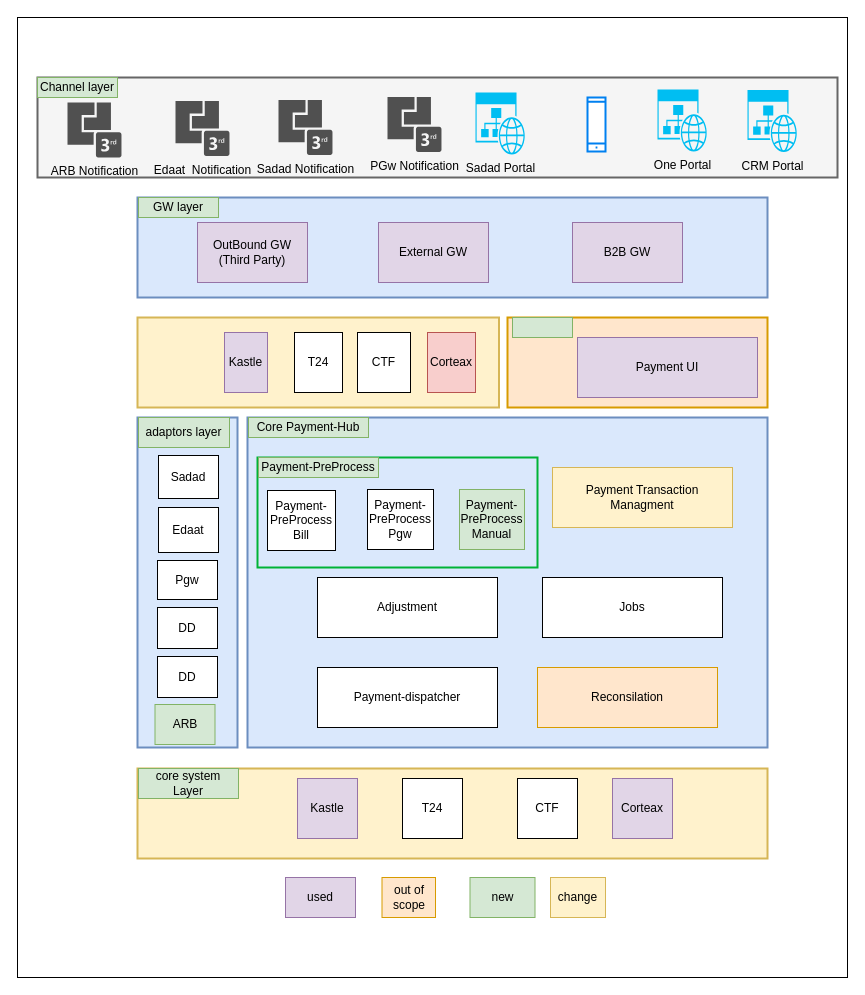
This 865x995 diagram has some shape labels left out. Each missing label, with the centre of its shape:
BFF layer: (542,327)
Mobile App: (596,124)
